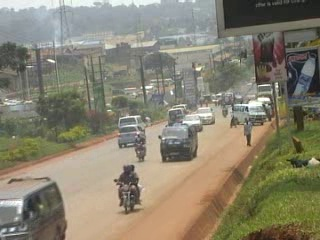Car: (115, 122, 146, 150), (165, 105, 191, 128), (194, 104, 215, 127), (181, 112, 203, 132)
Motorcycle: (113, 160, 145, 215), (131, 129, 151, 161), (220, 100, 229, 119)
